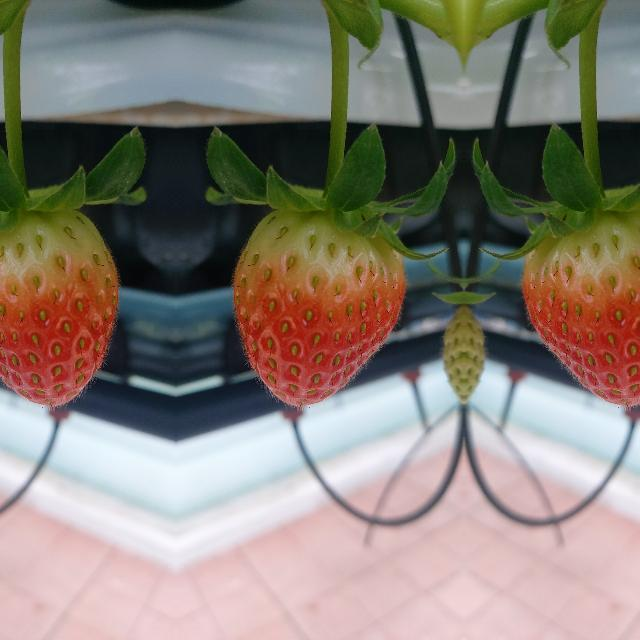Health_75: (232, 210, 404, 406), (522, 209, 640, 406), (0, 209, 117, 406)
